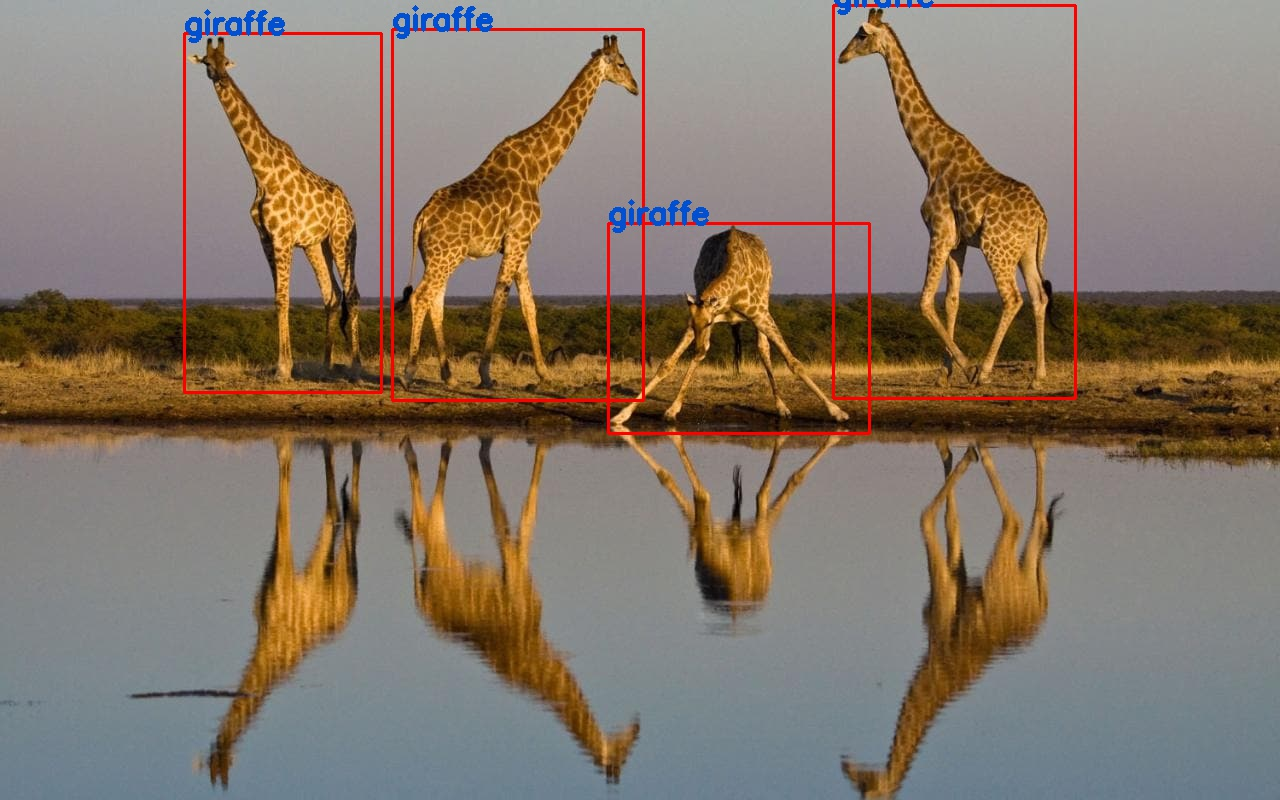giraffe: (833, 5, 1075, 398), (392, 29, 643, 400), (184, 33, 380, 392), (608, 223, 868, 433)
